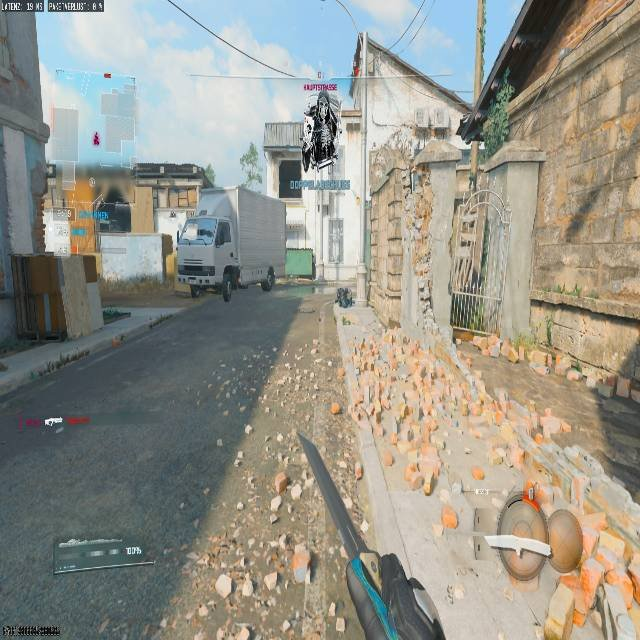player: (302, 93, 341, 174), (220, 260, 241, 303)
